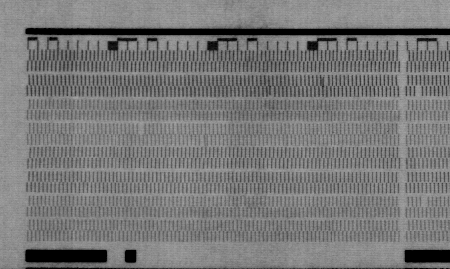Broken hole: (135, 123, 148, 136), (419, 196, 430, 209), (414, 87, 424, 98)
Oblique printing: (318, 73, 331, 88), (198, 134, 211, 147), (265, 86, 277, 99)
